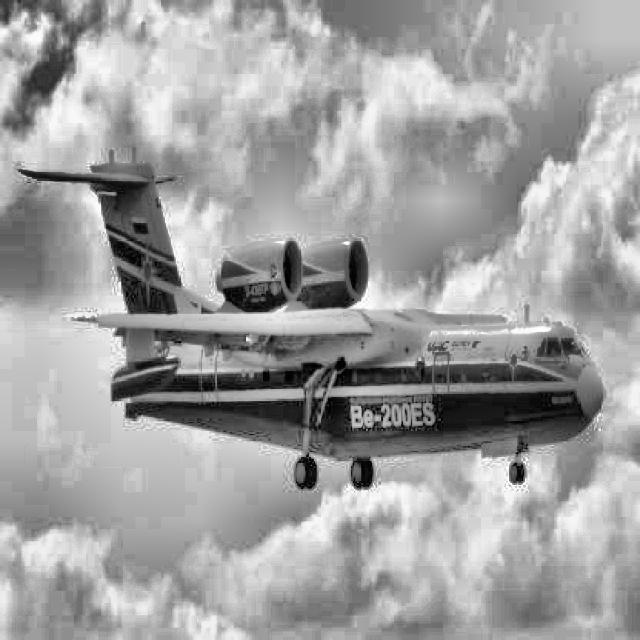Be200: (16, 147, 604, 490)
